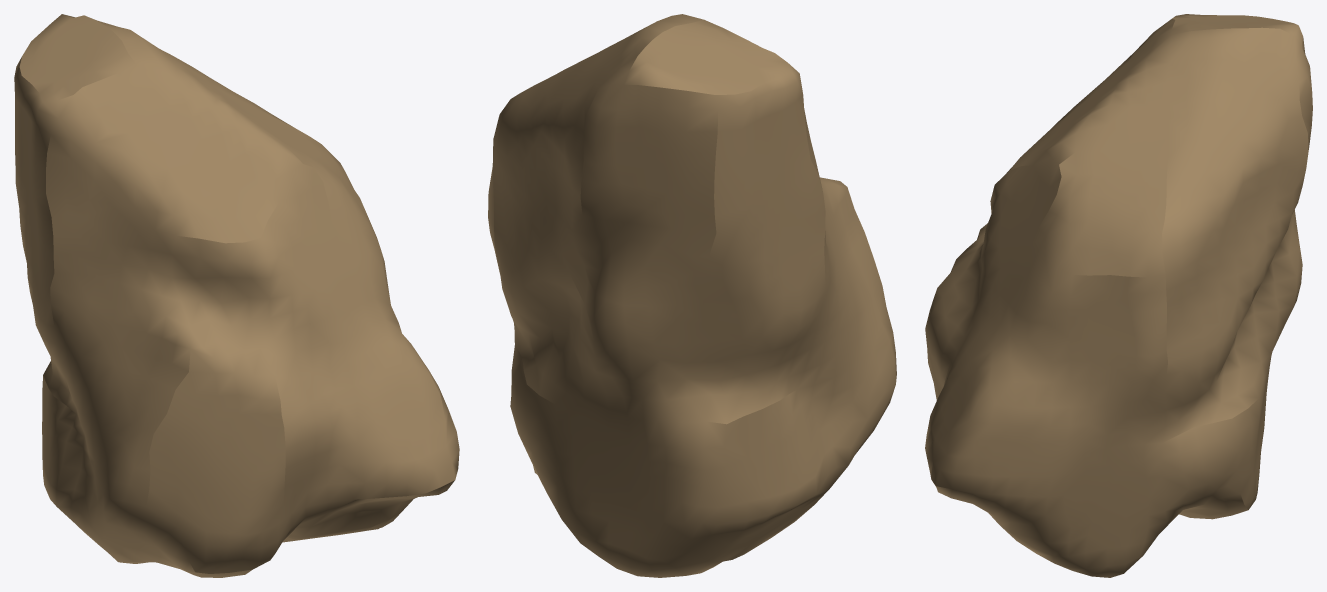
Rendered from MM_Rock_01.fbx.
3 views of the same model, side by side, from view 1: azimuth 30°, elevation 25°; view 2: azimuth 150°, elevation 25°; view 3: azimuth 270°, elevation 25° (orthographic). The views are drawn at different scales.
Visible parts, largest first — view 1: rock_1; view 2: rock_1; view 3: rock_1.
Part boxes in pixels (x1,y1,x2,y2): rock_1: (14, 14, 459, 577); rock_1: (488, 14, 896, 577); rock_1: (925, 14, 1312, 577).
Size of the model in its own units: 398 by 597 by 441.
